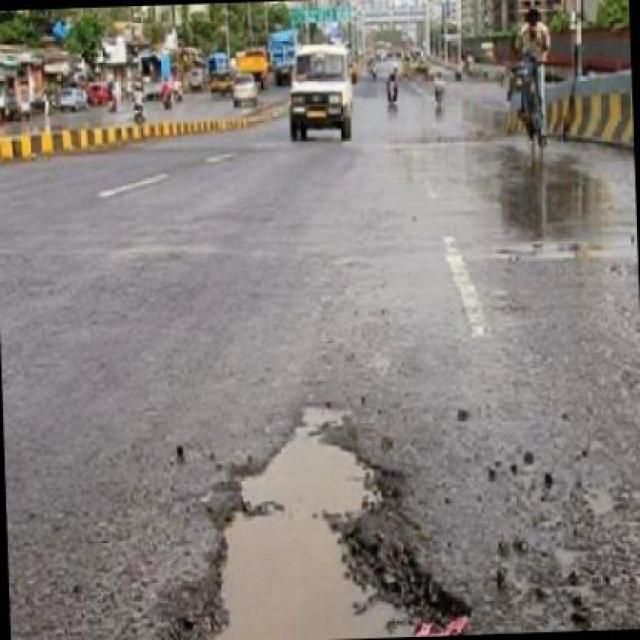pothole1: (150, 411, 476, 638)
